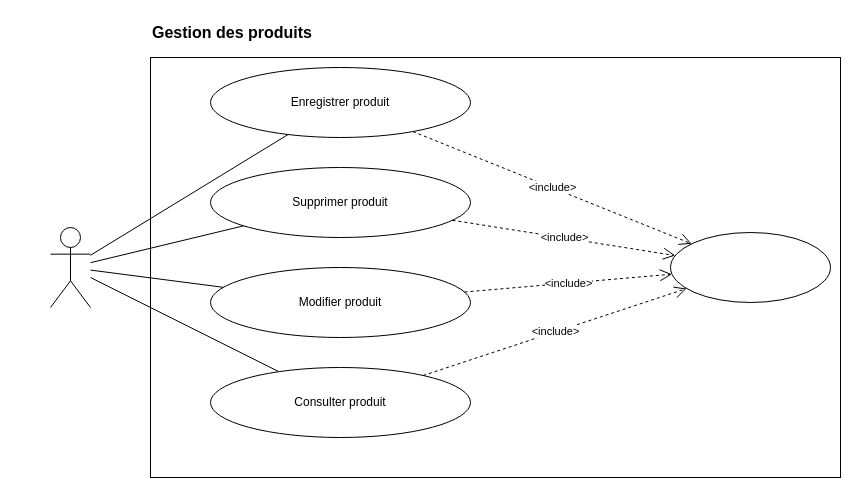
Image size: 858x495. Some labels were removed from this diagram. Each missing label, with the centre of its shape:
Responsable atelier: [70,267]
S'authentifier: [750,267]
